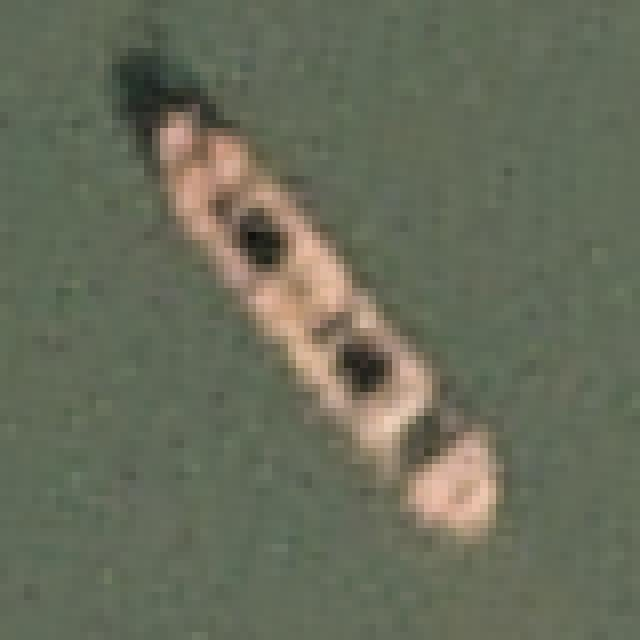ship: (109, 65, 526, 573)
